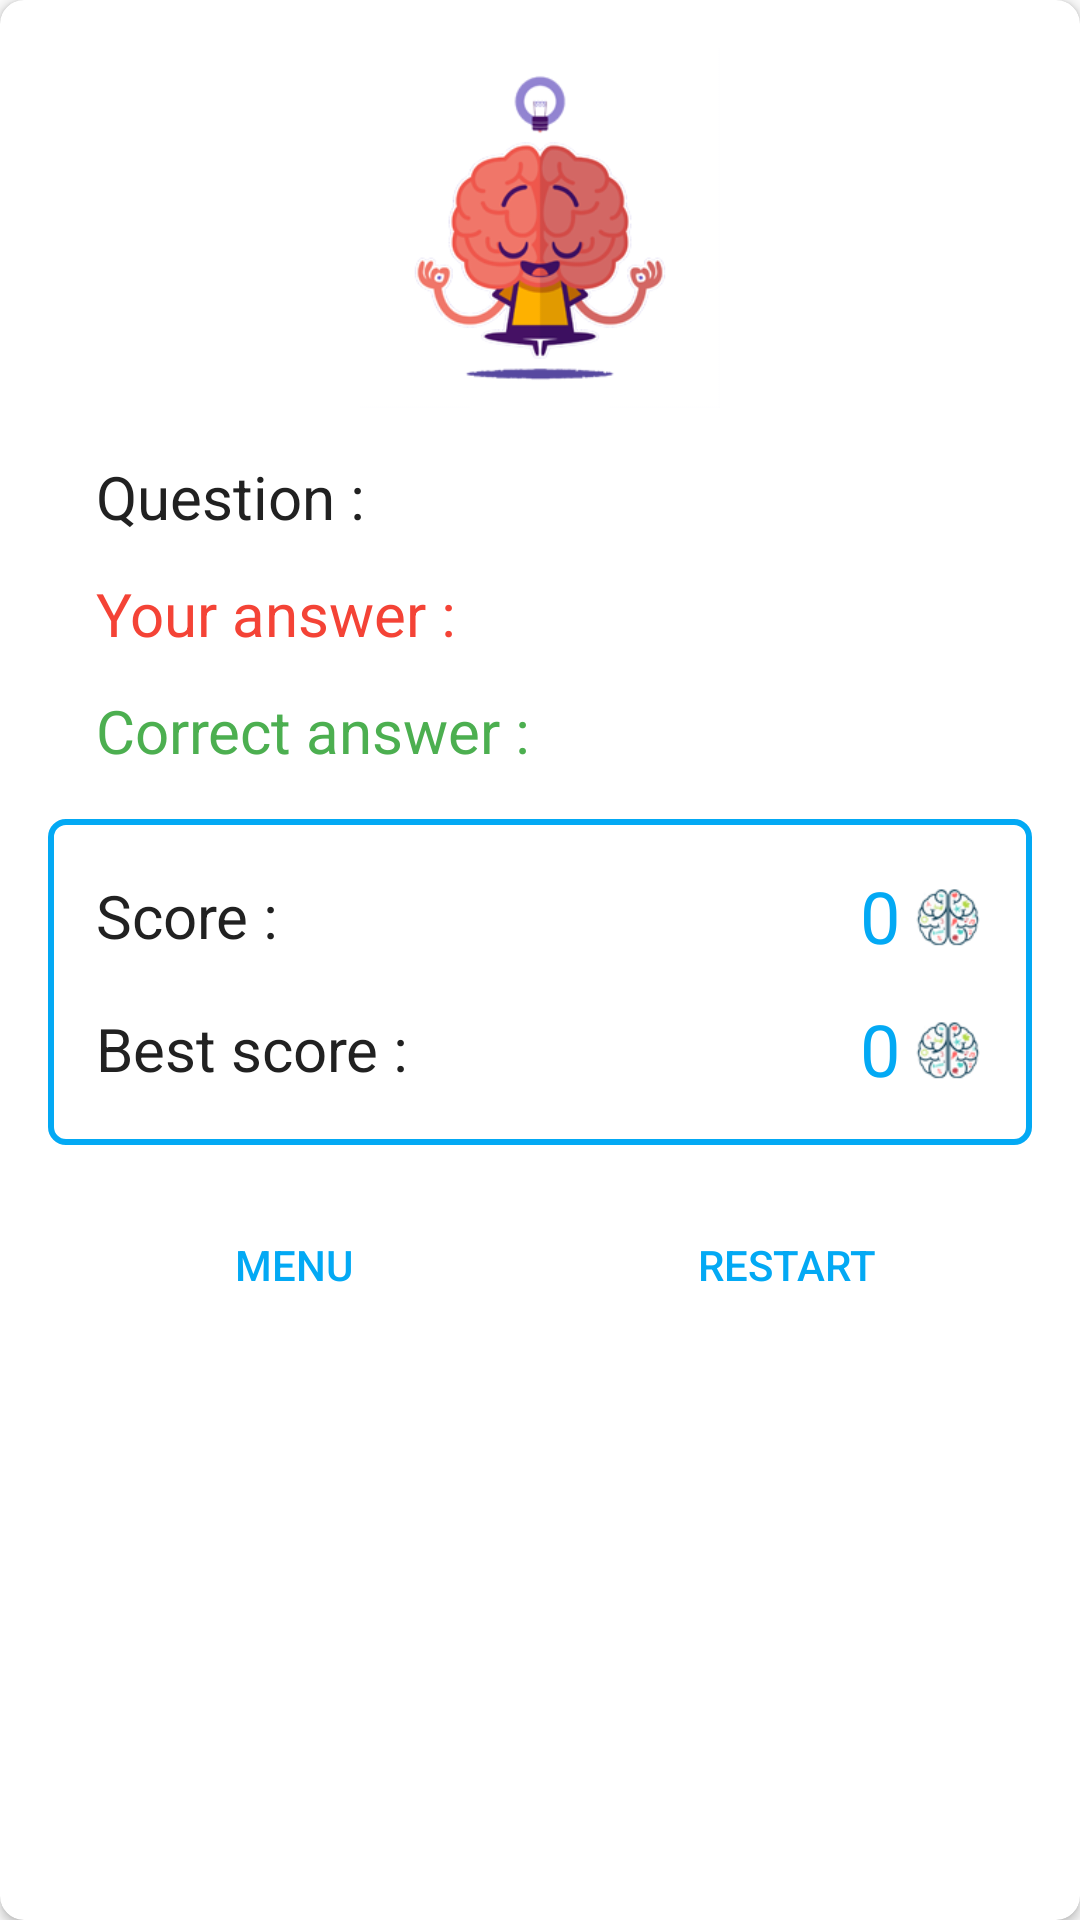

Locate icon controls on the screen. Image size 1080w x 1920h, boxes as (x1, y1, x2, y2).
brain: (917, 889, 979, 946), (917, 1022, 979, 1079)
